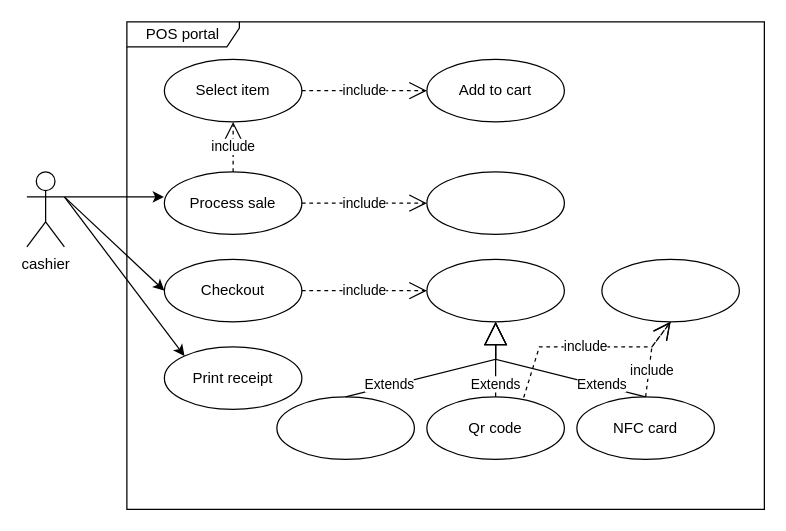
The diagram is 786 pixels wide and 531 high, and some of its shapes have lost their labels. Here are the shapes that lost their labels. From the top down, the centre of each, then its label:
point 495,202: Calculate total amount
point 495,290: Payment
point 670,290: Customer information
point 345,427: cash
